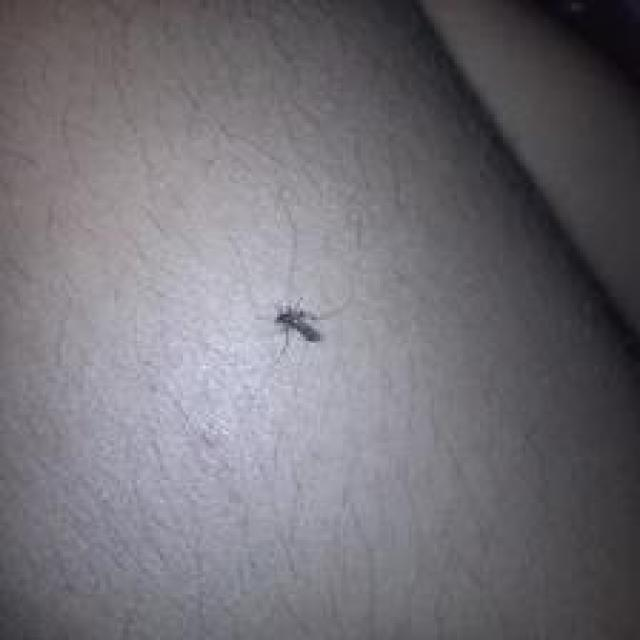Aedes albopictus: (273, 299, 321, 350)
